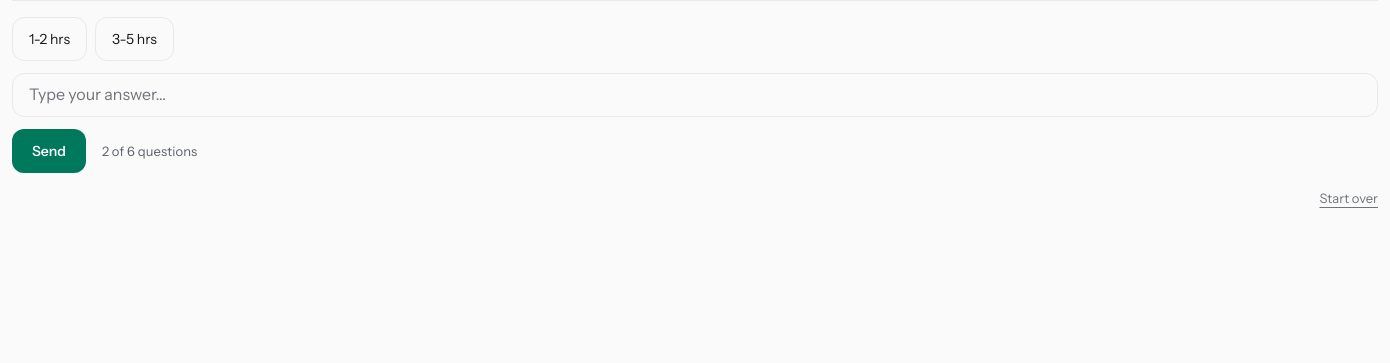
Test: Composer › announces the wait rather than only animating it
Step 1. Type "anything" into the field labelled "your answer" → (695,95), box [12, 73, 1378, 117]
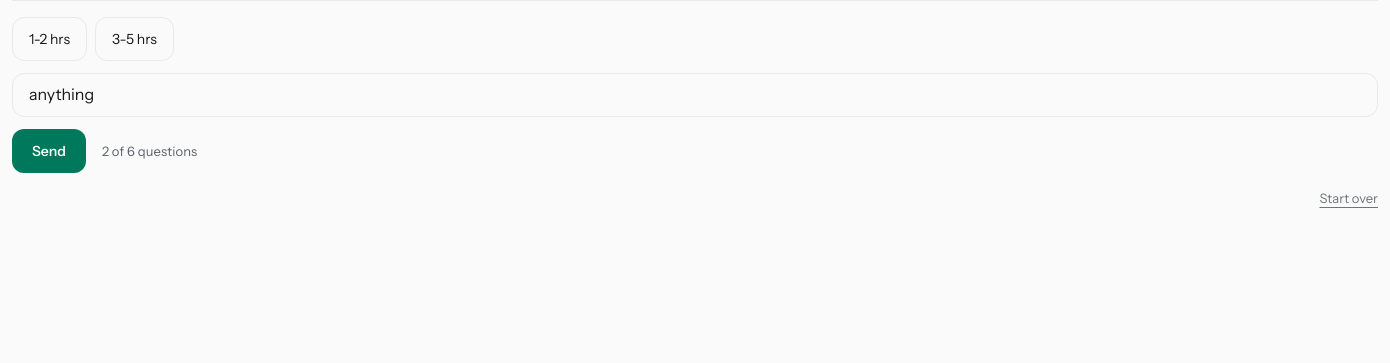
Step 2. Submit the form named "Your answer", box [12, 73, 1378, 173]
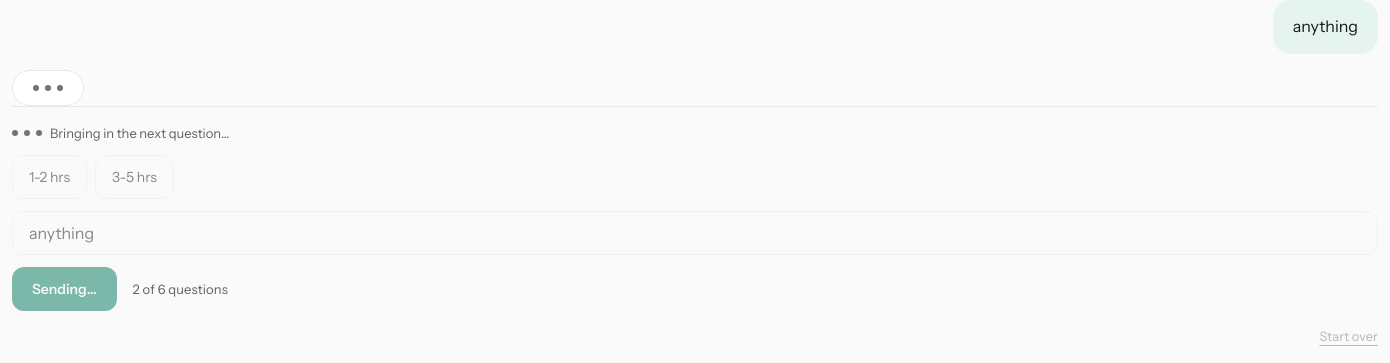
Expected: the element showing "anything" is shown, [12, 0, 1378, 106]
